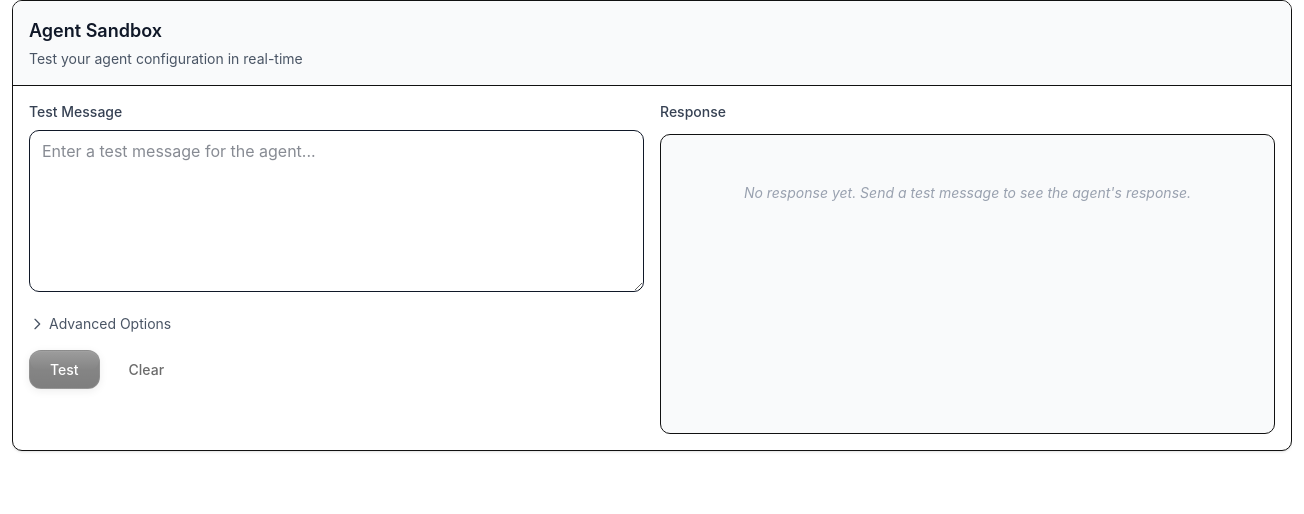
it: AgentSandbox Component › Testing with Agent ID › should display metadata when available
This screenshot has width=1304, height=514.
Type "Test" into the text box labelled "Test Message" at [336, 211], box [29,130,644,292]
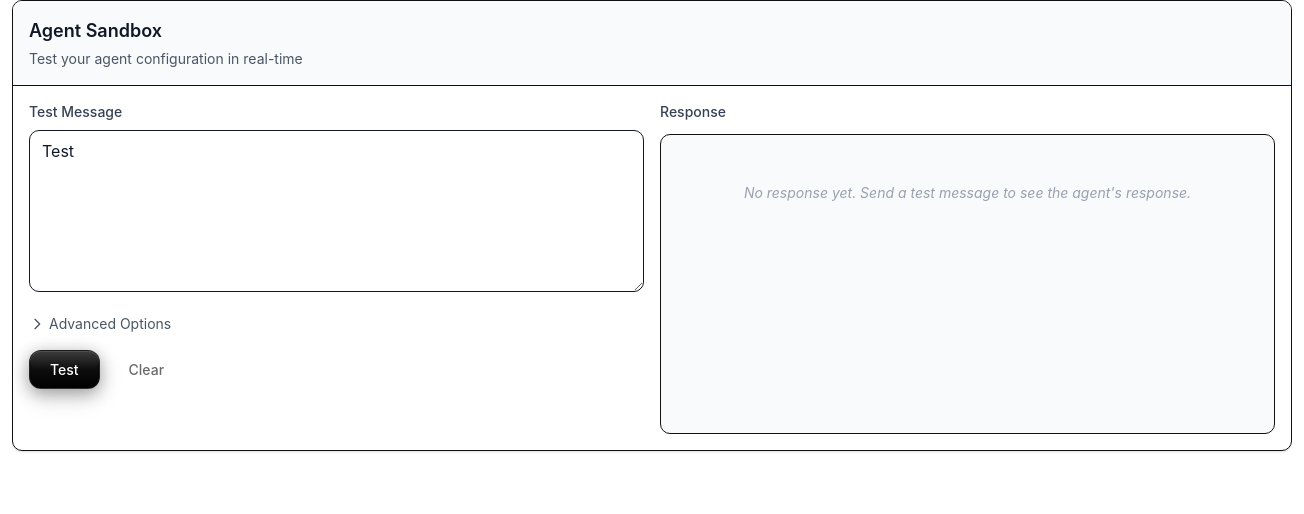
Click the button "Test" at [64, 370], box [29,350,100,389]
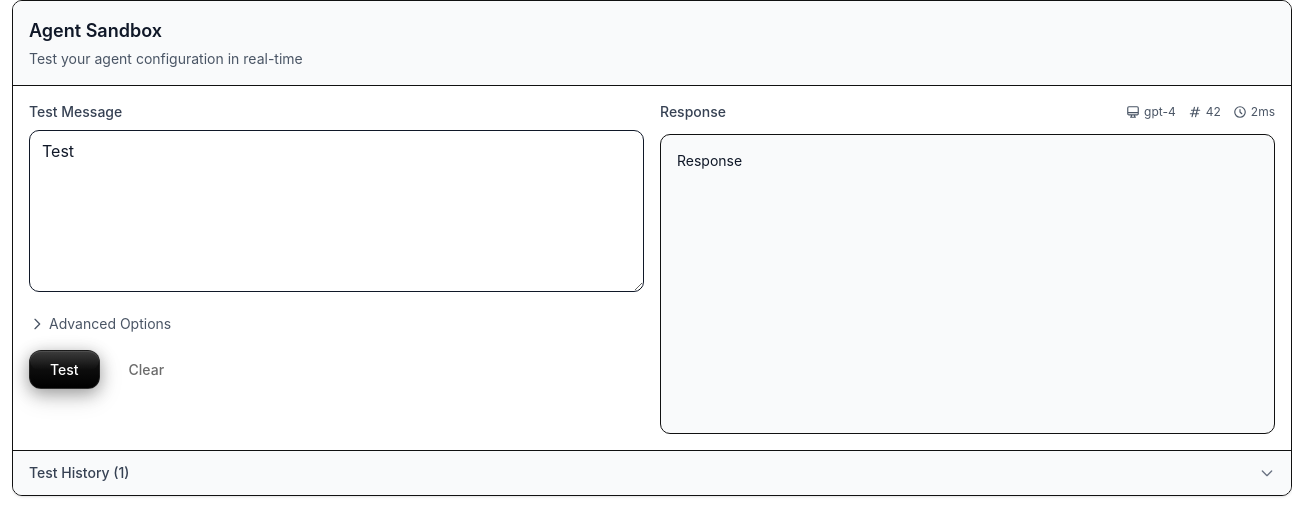
Expected: the text "gpt-4" is shown, [1126,104,1176,120]
Expected: the text "42" is shown, [1188,104,1221,120]
